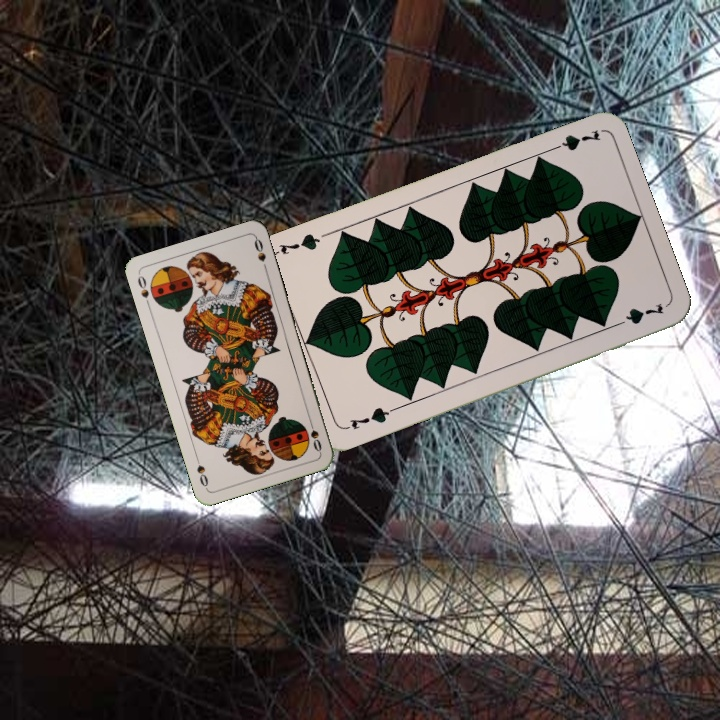G7: (544, 126, 603, 155), (338, 403, 395, 433)
SO: (305, 415, 324, 454), (134, 271, 153, 310)
